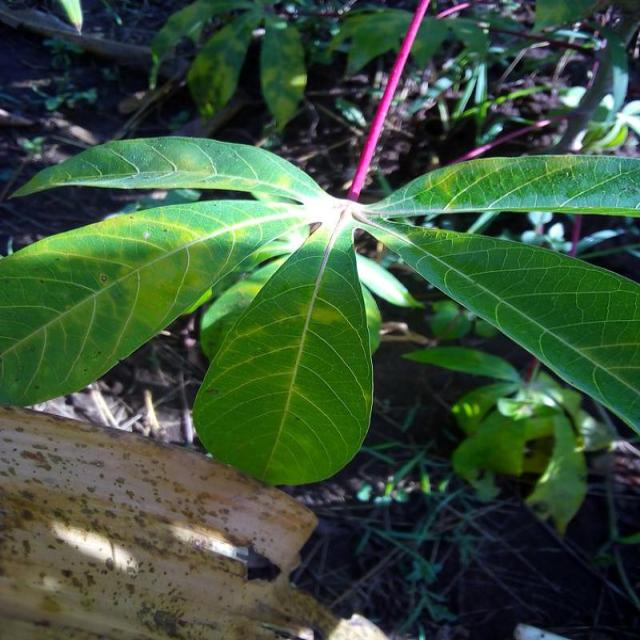cassava leaf: (1, 196, 310, 409), (362, 216, 640, 439), (192, 220, 375, 486)
